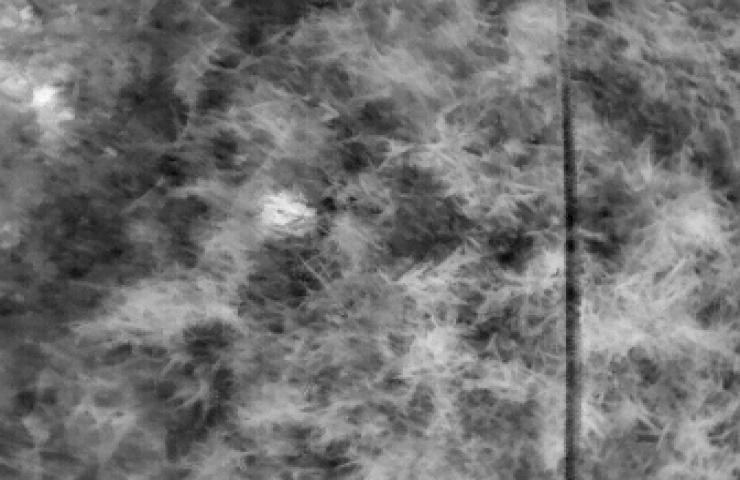landmines: (258, 192, 316, 229)
